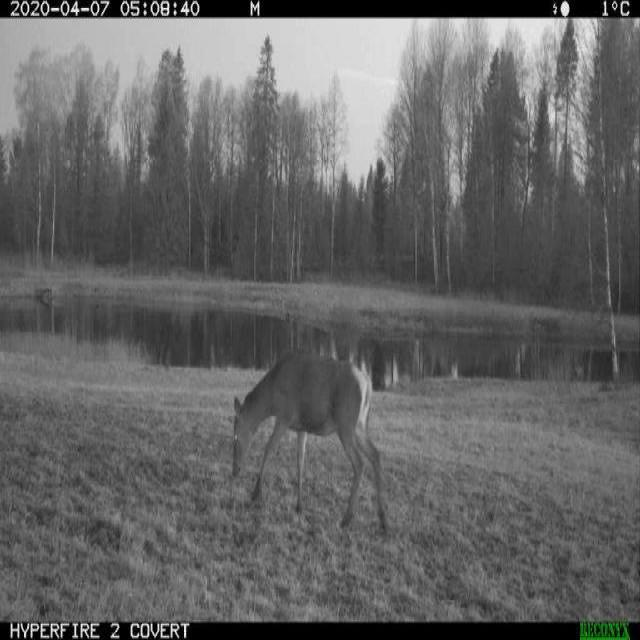deer: (227, 341, 391, 542)
